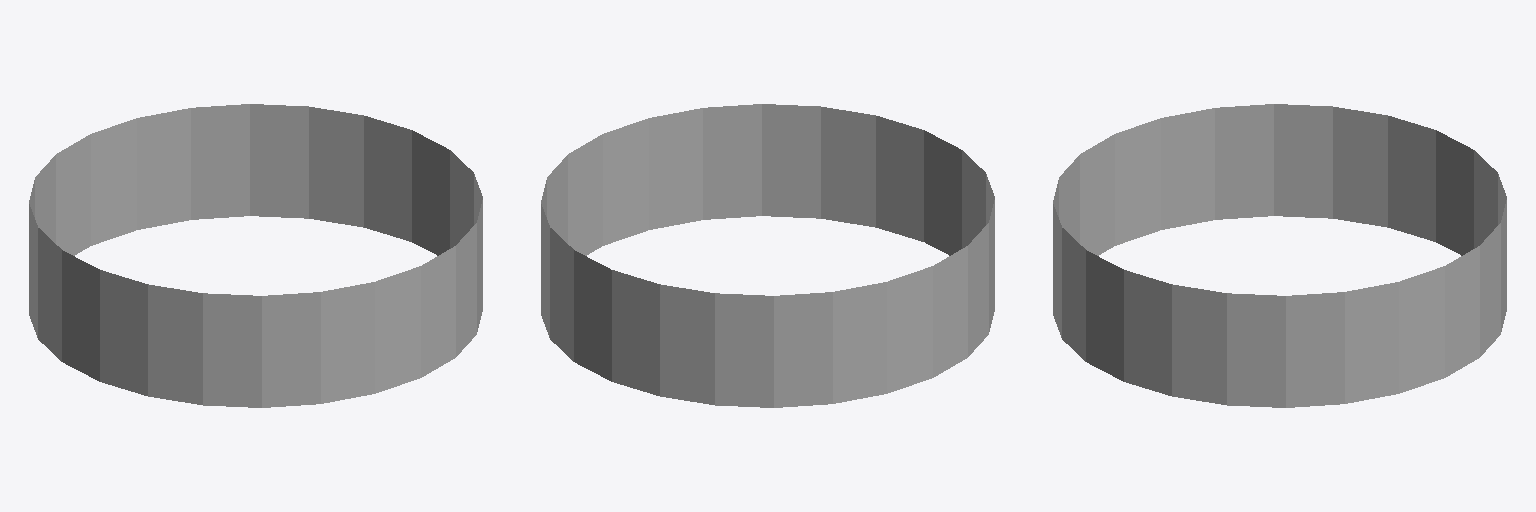
The model's file is original-121.obj.
3 renders of one model, left to right at view 1: azimuth 30°, elevation 25°; view 2: azimuth 150°, elevation 25°; view 3: azimuth 270°, elevation 25°, orthographic.
Visible parts, largest first — view 1: 3dw.47c68395a5775e10d9deb3f829cc2475/Model/Component_18_1/Compon; view 2: 3dw.47c68395a5775e10d9deb3f829cc2475/Model/Component_18_1/Compon; view 3: 3dw.47c68395a5775e10d9deb3f829cc2475/Model/Component_18_1/Compon.
Boxes of the visible parts, <box> form: 3dw.47c68395a5775e10d9deb3f829cc2475/Model/Component_18_1/Compon: <box>29,104,482,407</box>; 3dw.47c68395a5775e10d9deb3f829cc2475/Model/Component_18_1/Compon: <box>541,104,994,407</box>; 3dw.47c68395a5775e10d9deb3f829cc2475/Model/Component_18_1/Compon: <box>1053,104,1506,407</box>.
Size of the model in its own units: 0.1197 by 0.0326 by 0.1197.